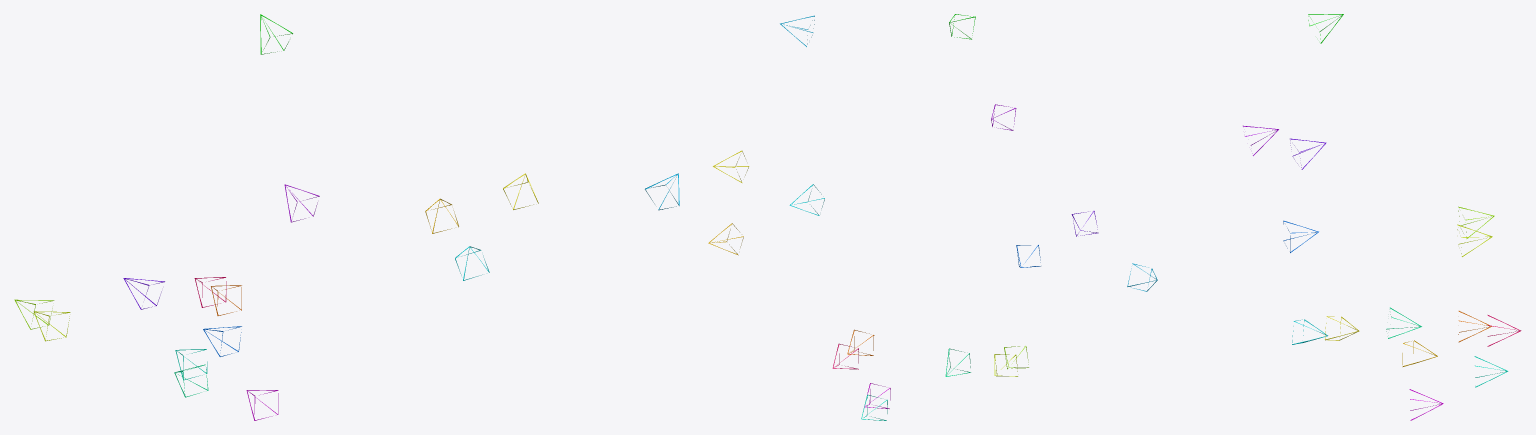
Rendered from model-vggt-oso.glb.
3 renders of one model, left to right at view 1: azimuth 30°, elevation 25°; view 2: azimuth 150°, elevation 25°; view 3: azimuth 270°, elevation 25°, orthographic. The views are drawn at different scales.
Parts seen in each view (by area): view 1: world; view 2: world; view 3: world.
Boxes of the visible parts, x1=… form: world: x1=14, y1=14, x2=679, y2=420; world: x1=708, y1=14, x2=1098, y2=420; world: x1=1127, y1=14, x2=1521, y2=420.
Size of the model in its own units: 0.8034 by 0.7176 by 0.6692.
